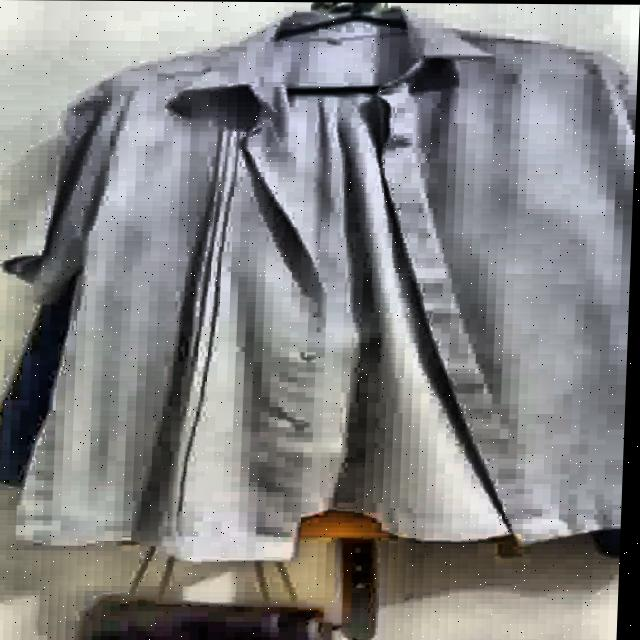clothes: (0, 4, 640, 571)
